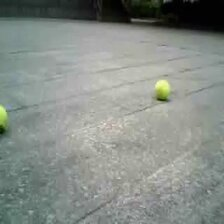tennis: (154, 80, 169, 99)
